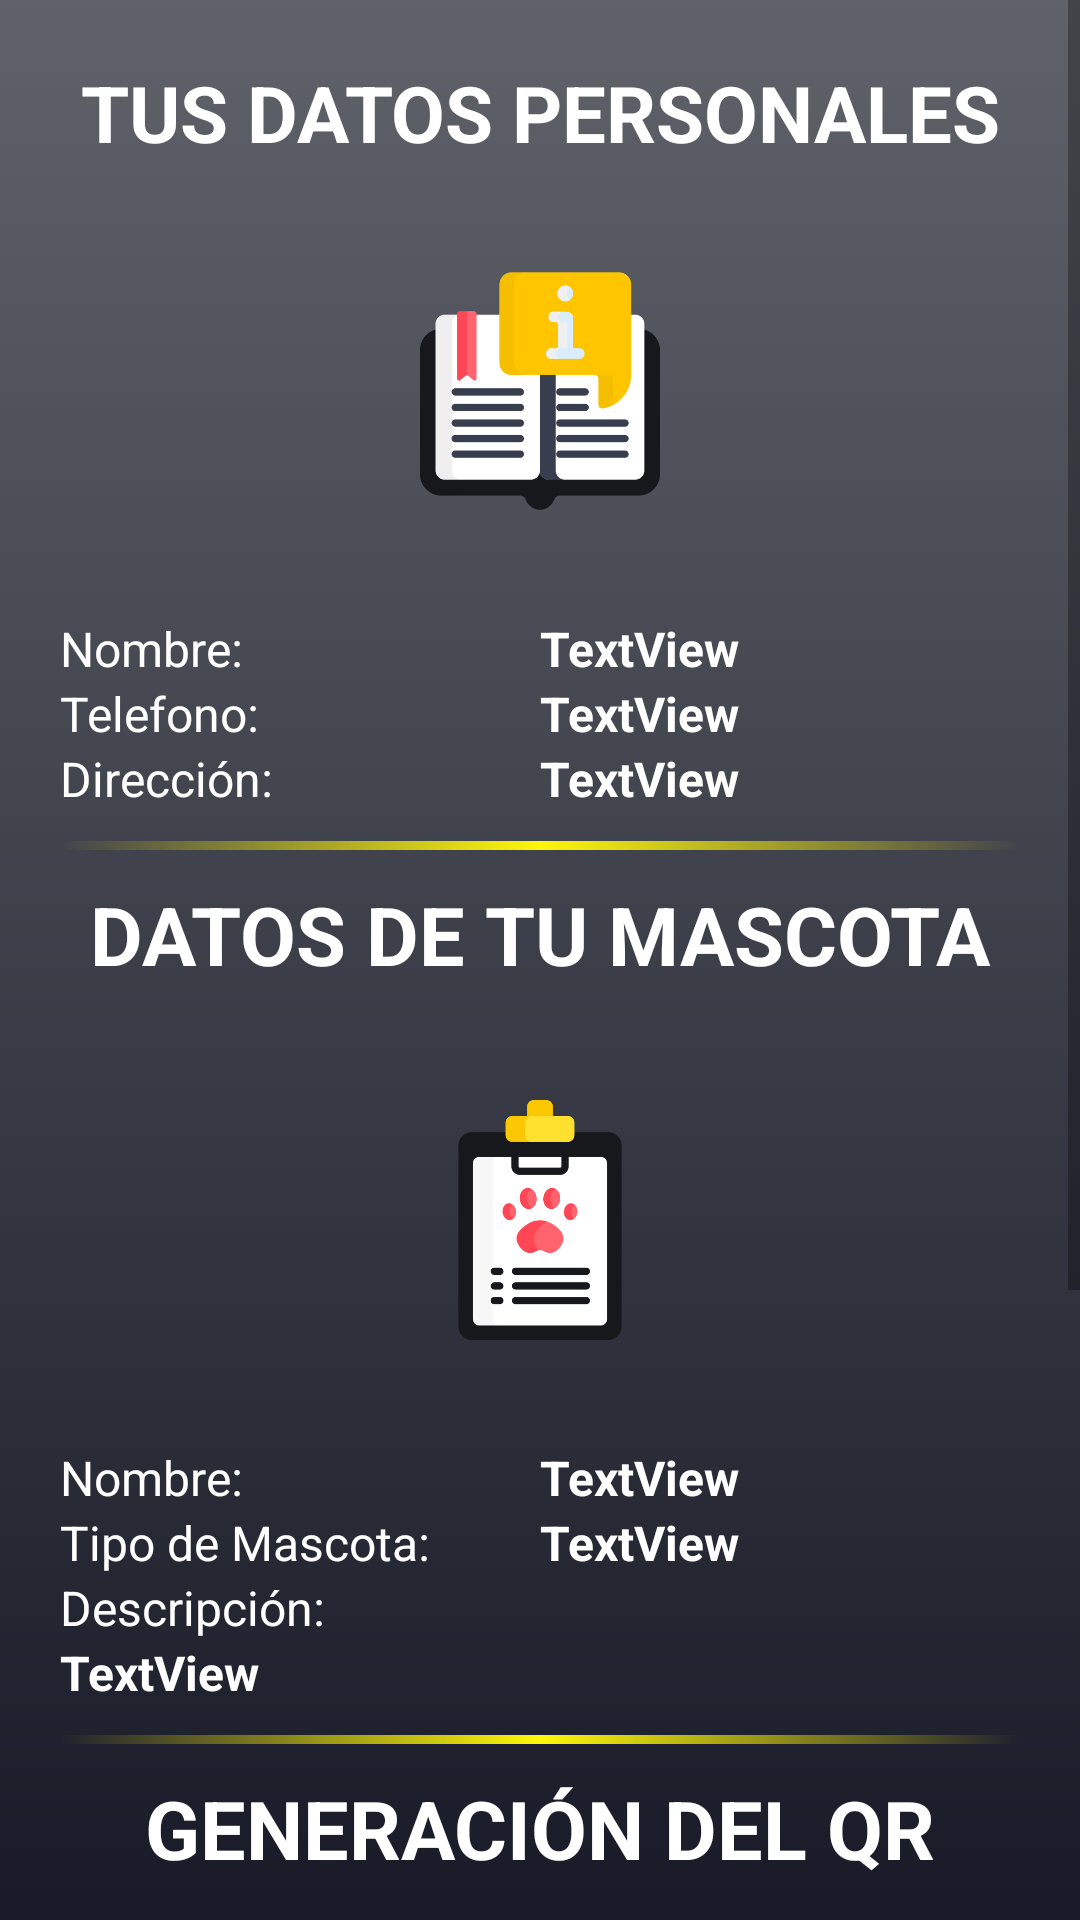

Icons on this 1080 x 1920 Android screen, each with the point to tap as point (x, y):
crud mascotaaa: point (540, 1220)
info userqr: point (540, 391)
